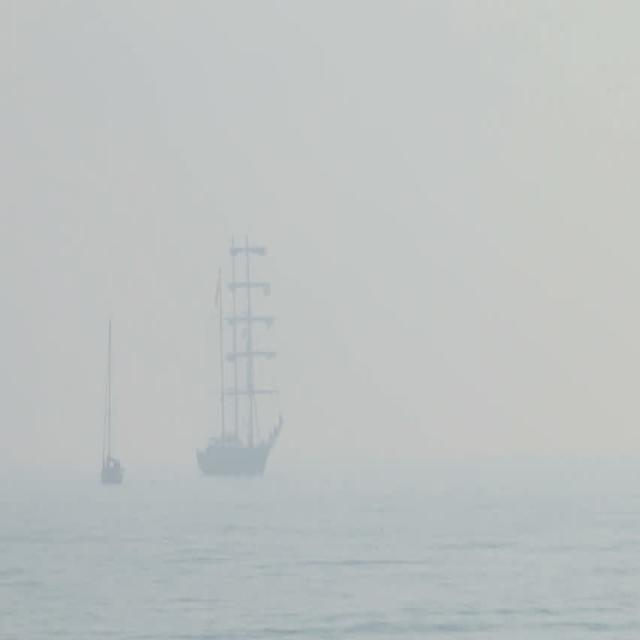fishing boat: (189, 237, 291, 466), (98, 300, 139, 494)
